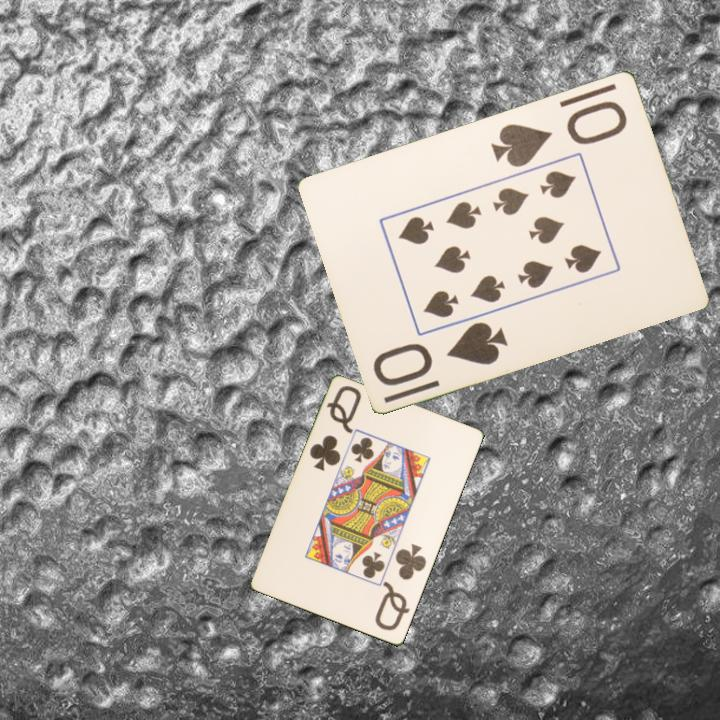10s: (487, 96, 631, 170), (369, 317, 512, 388)
Qc: (371, 540, 430, 634), (306, 382, 365, 474)
